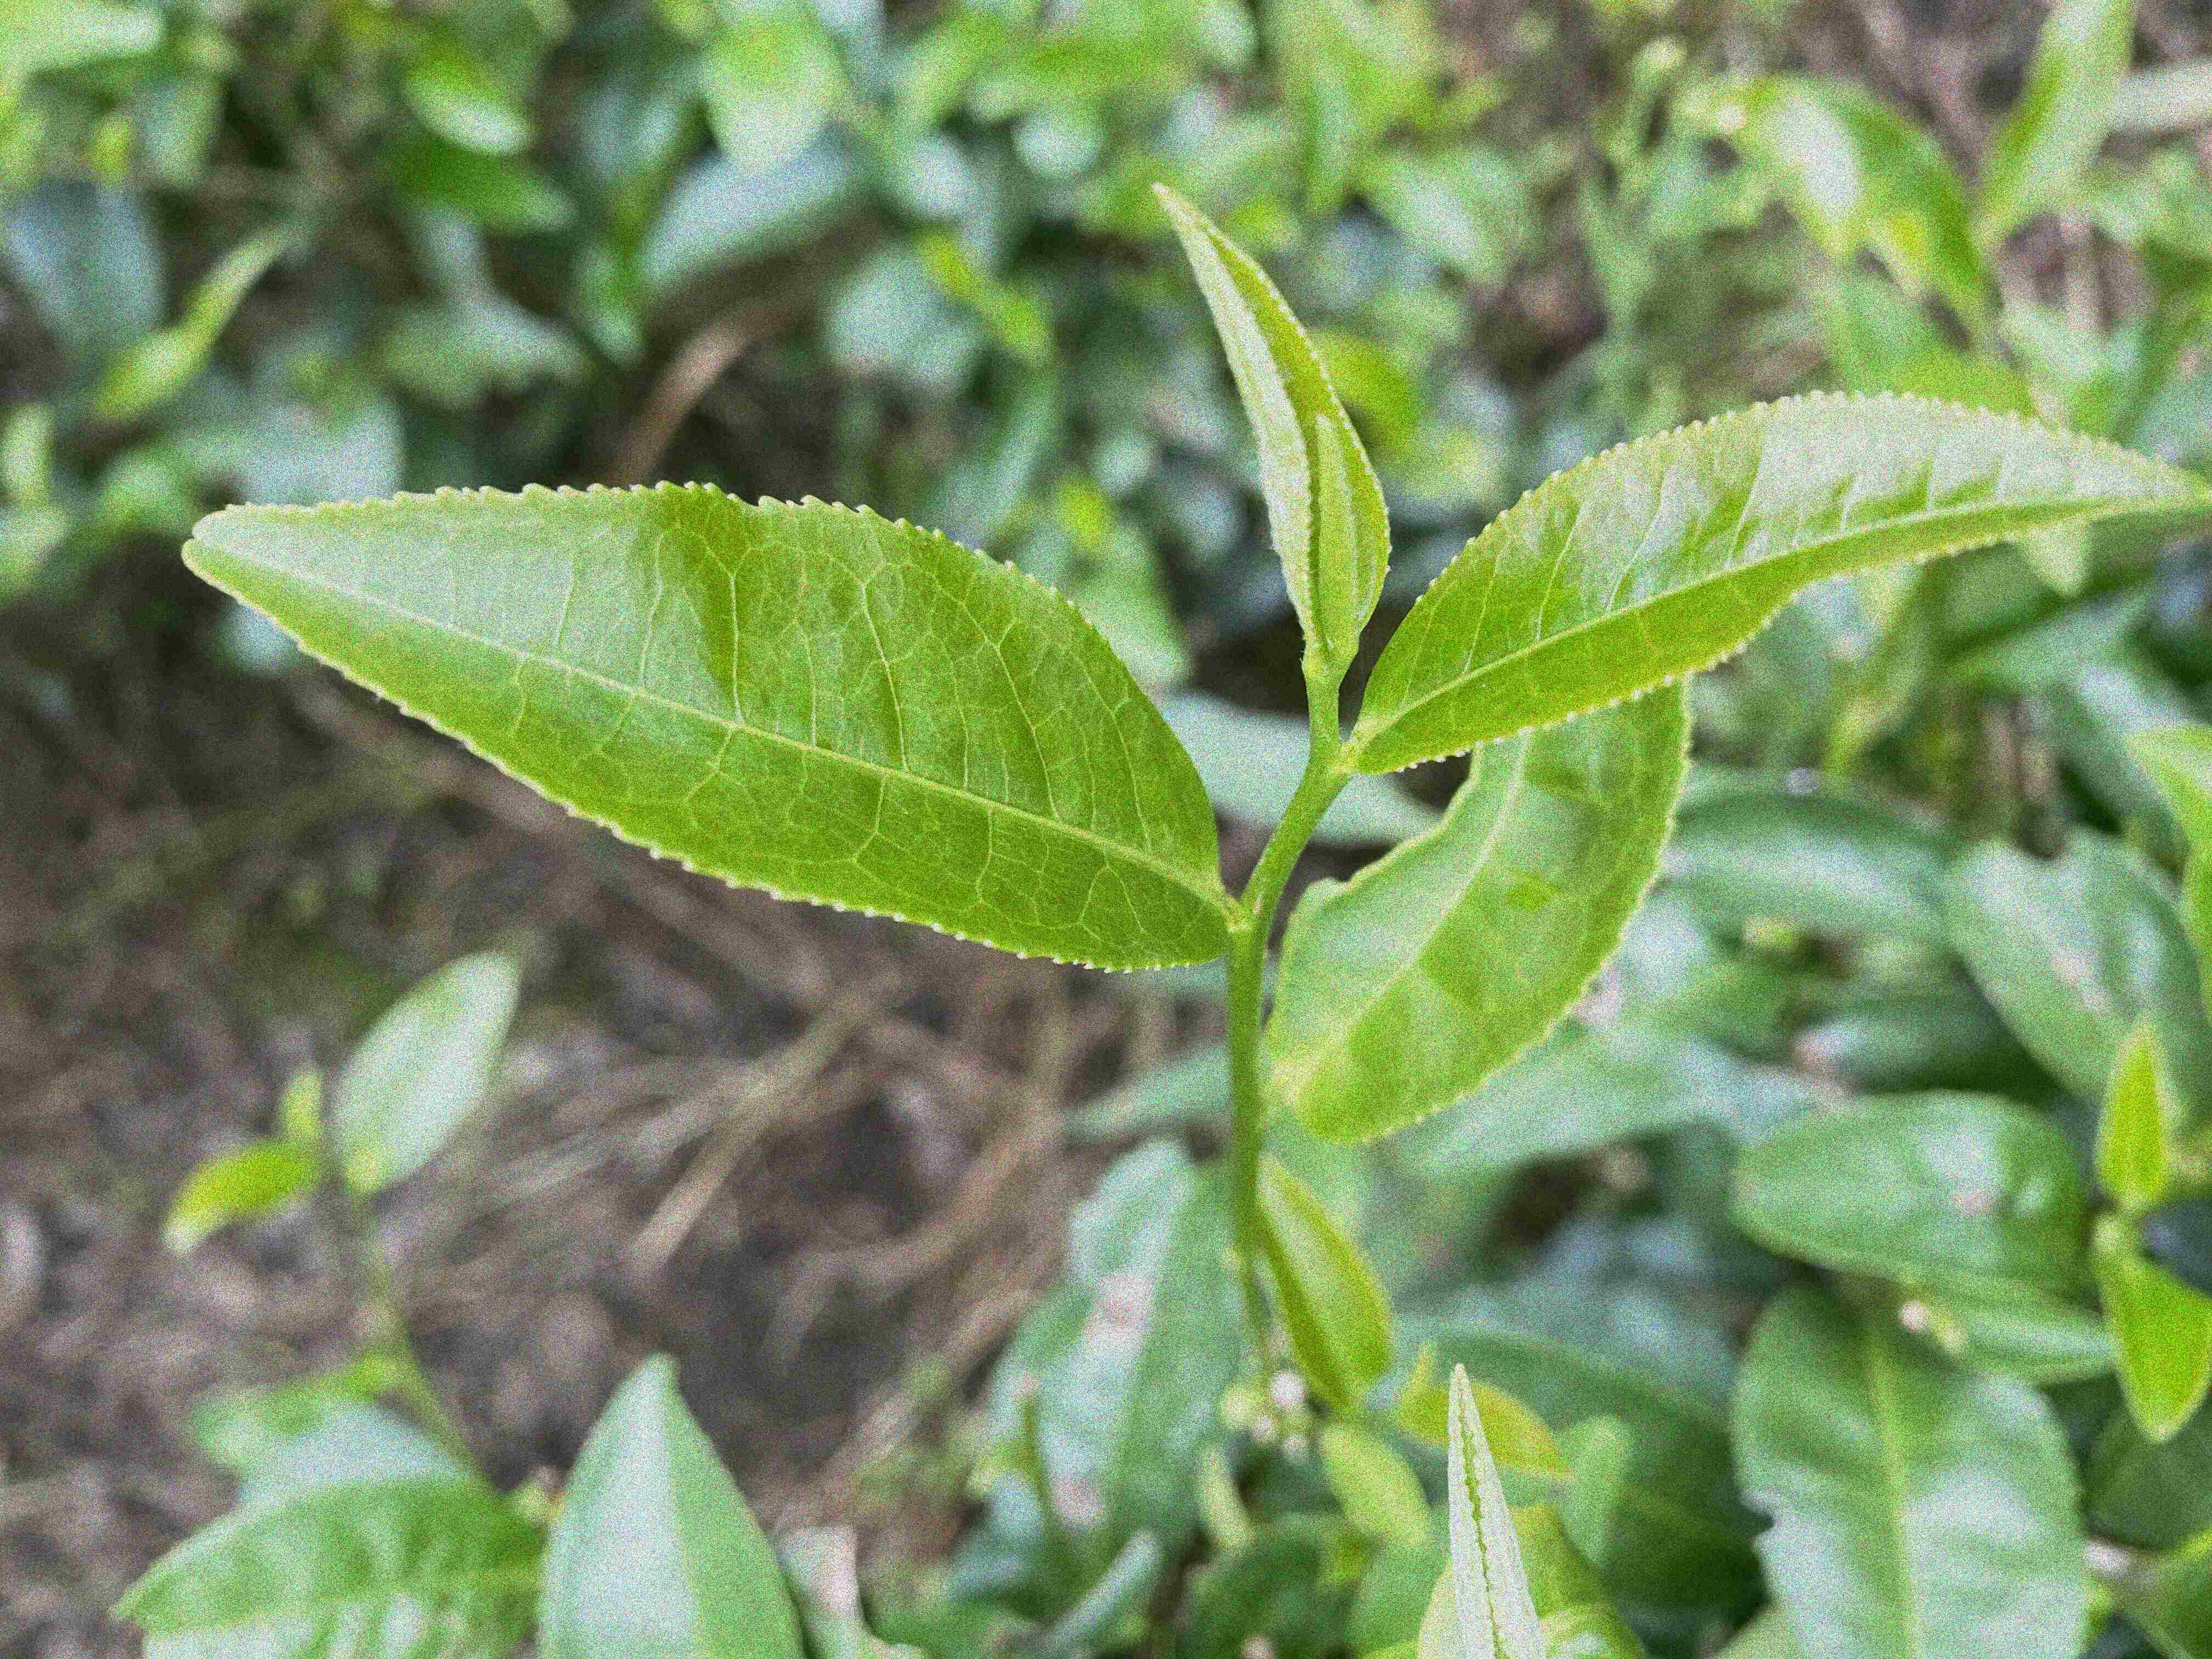healthy: (185, 472, 1233, 976), (1353, 389, 2209, 781), (1270, 685, 1696, 1148)
